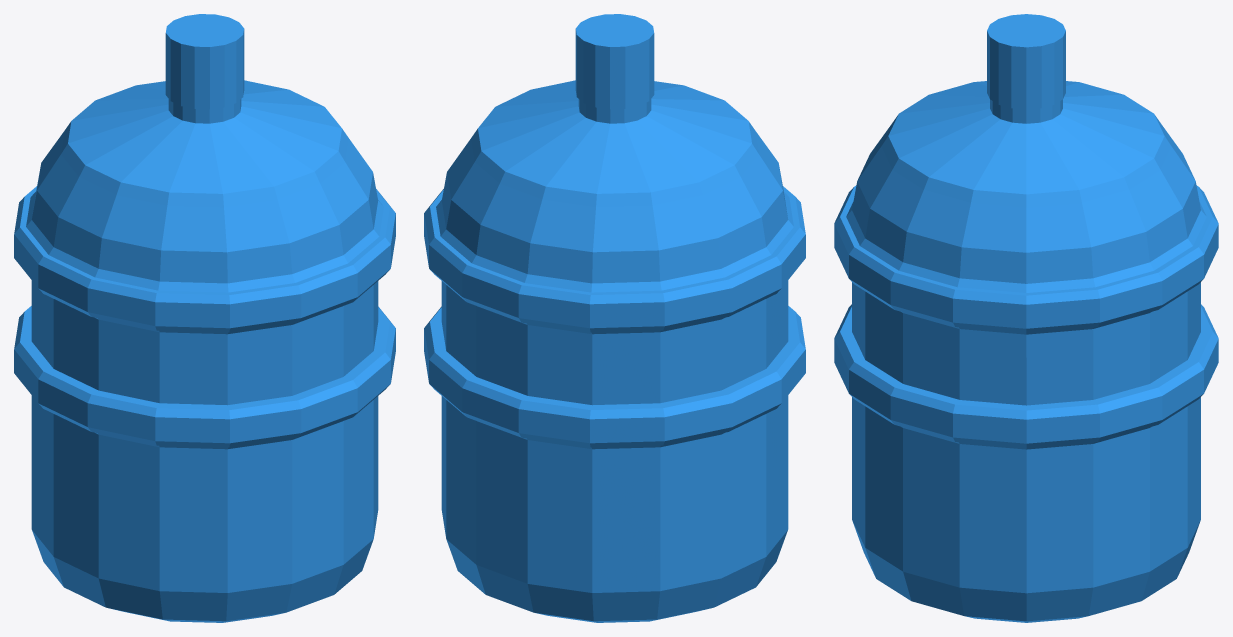
Rendered from Prop_WaterGallon.fbx.
The picture shows the model from 3 angles, left to right: view 1: azimuth 30°, elevation 25°; view 2: azimuth 150°, elevation 25°; view 3: azimuth 270°, elevation 25°; orthographic projection.
Parts seen in each view (by area): view 1: Prop_WaterGallon; view 2: Prop_WaterGallon; view 3: Prop_WaterGallon.
Part boxes in pixels (x1,y1,x2,y2): Prop_WaterGallon: (14,14,395,622); Prop_WaterGallon: (424,14,805,622); Prop_WaterGallon: (834,14,1218,622).
Size of the model in its own units: 47.57 by 73.12 by 47.57.
